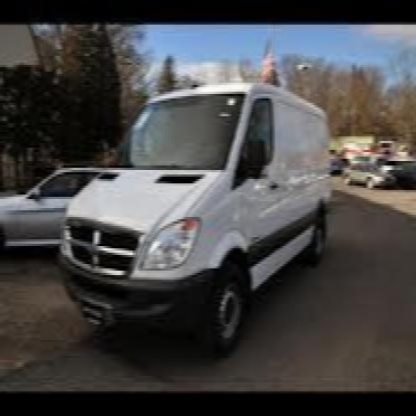Vehicle: (49, 76, 340, 353)
